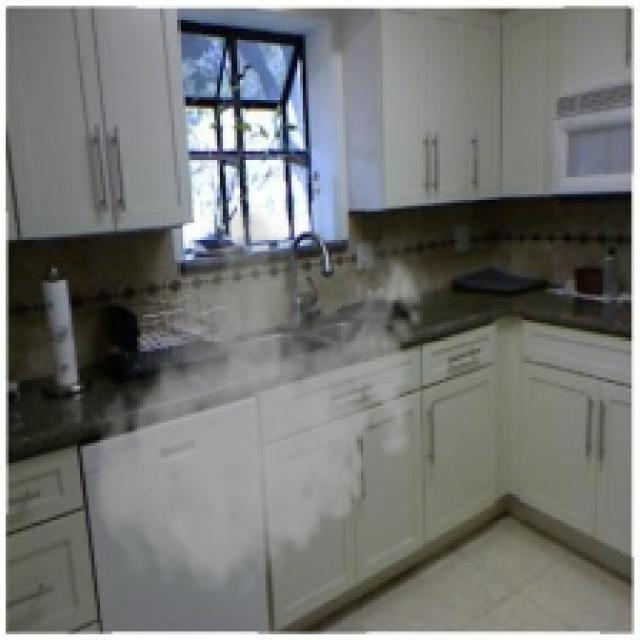smoke: (86, 211, 434, 606)
